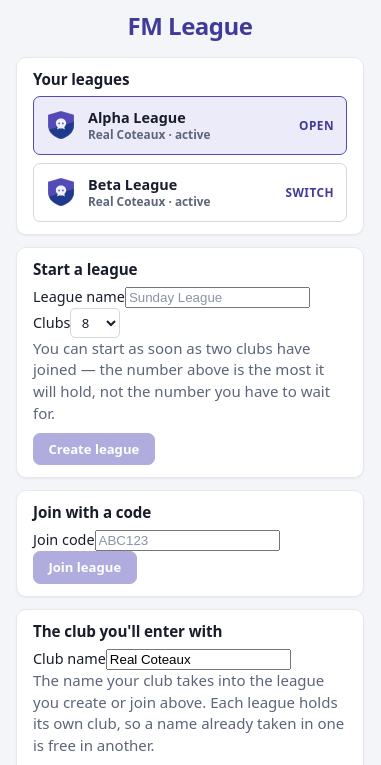
Test: a failed switch surfaces an error and does not strand the hub
What coordinates should you click on to do the following:
click the button "Beta League Real Coteaux · active Switch"
I would click on:
 (190, 192)
Its box is [33, 163, 347, 222].
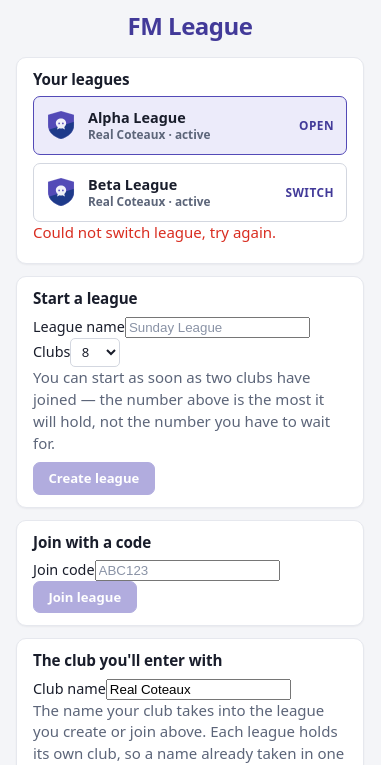
Check: the number of buttons "Alpha League Real Coteaux · active Open" is 2, box [33, 96, 347, 155]; [33, 163, 347, 222]
Check: the text "Could not switch league, try again." is shown, box [33, 222, 276, 242]
